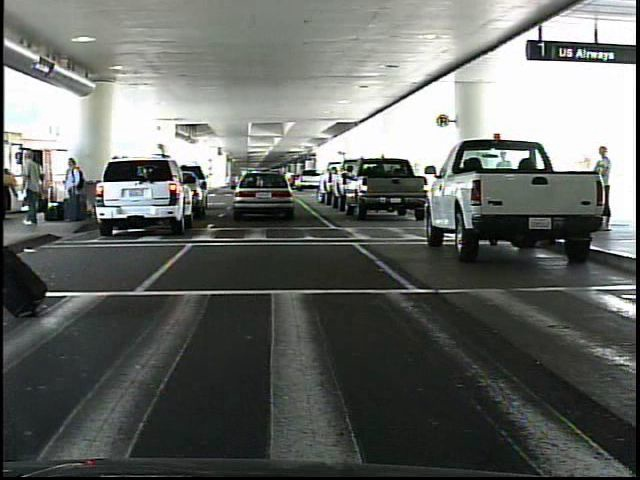person: (585, 145, 619, 231), (19, 150, 46, 226), (60, 156, 83, 225)
